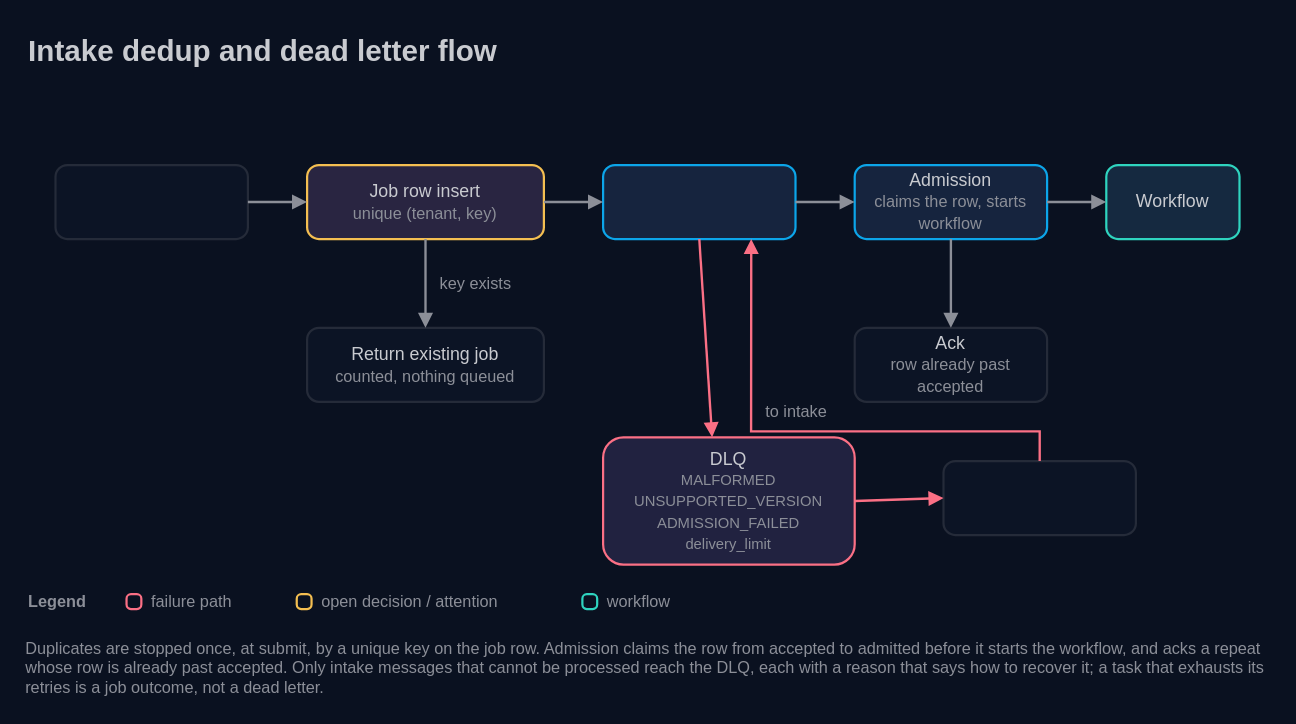
Some shapes in this 1296 by 724 pixel diagram are drawn without their labels. The shapes that lost their labels are listed below. From the top down, each one's centre as x and y in pixels, then its label:
At pixel 151 201: "Dispatch API".
At pixel 698 201: "Intake queues".
At pixel 1039 497: "Replay tool republish, upgraded".
